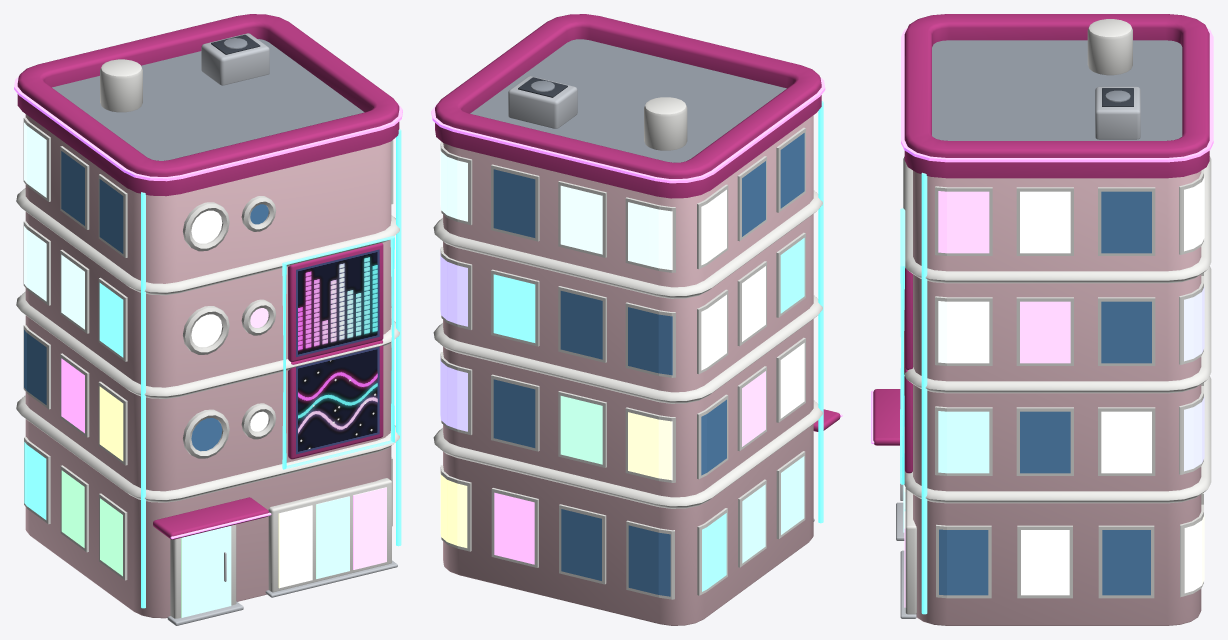
Rendered from predio_caixa_tela_rosa.glb.
3 renders of one model, left to right at view 1: azimuth 30°, elevation 25°; view 2: azimuth 150°, elevation 25°; view 3: azimuth 270°, elevation 25°, orthographic. The views are drawn at different scales.
Visible parts, largest first — view 1: predio_caixa_tela_rosa; view 2: predio_caixa_tela_rosa; view 3: predio_caixa_tela_rosa.
Part boxes in pixels (<box>): predio_caixa_tela_rosa: <box>14,14,402,625</box>; predio_caixa_tela_rosa: <box>431,14,842,625</box>; predio_caixa_tela_rosa: <box>871,14,1213,625</box>.
Size of the model in its own units: 8.84 by 14.64 by 9.02.
Materials: 13 (3 with a texture image).
